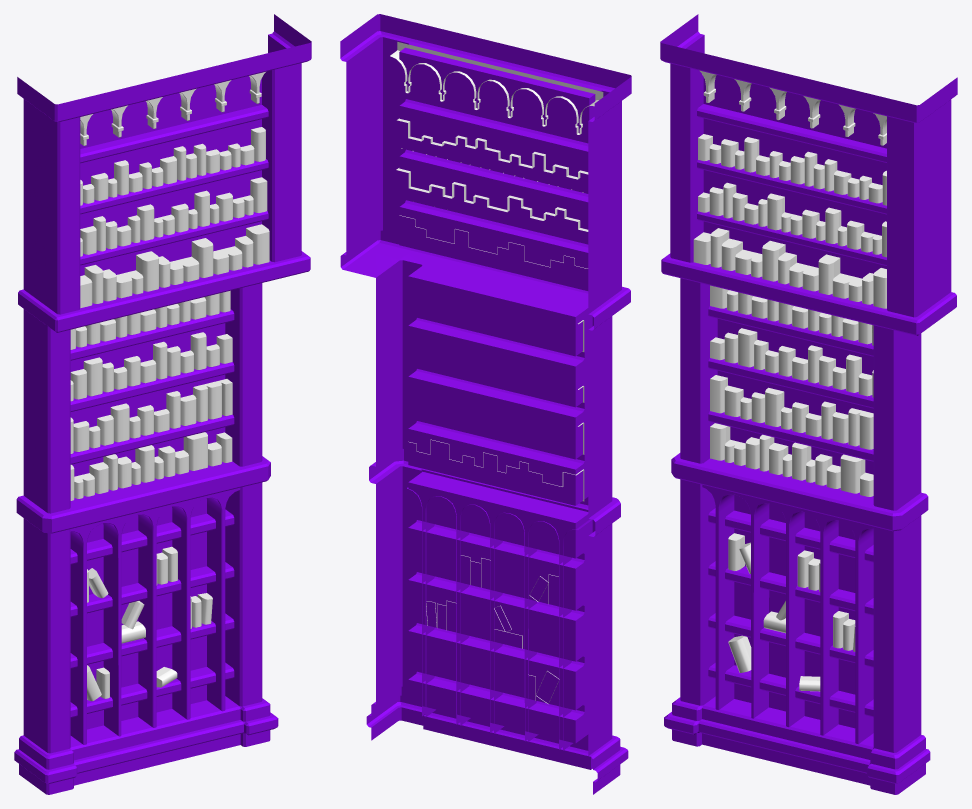
Rendered from Bookshelf4.fbx.
3 renders of one model, left to right at view 1: azimuth 30°, elevation 25°; view 2: azimuth 150°, elevation 25°; view 3: azimuth 330°, elevation 25°, orthographic.
Visible parts, largest first — view 1: Box007, Object011, Object010; view 2: Box007, Object011, Object010; view 3: Box007, Object011, Object010.
Part boxes in pixels (x1,y1,x2,y2): Box007: (14, 14, 311, 794); Object011: (70, 127, 269, 701); Object010: (80, 72, 265, 145); Box007: (340, 14, 631, 794); Object011: (396, 118, 588, 703); Object010: (390, 42, 603, 134); Box007: (660, 14, 957, 794); Object011: (693, 134, 886, 691); Object010: (699, 70, 886, 145).
Size of the model in its own units: 2691 by 6914 by 693.
